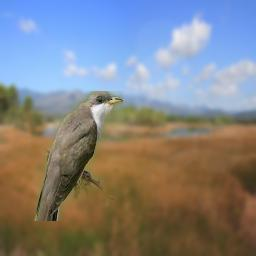Cuckoo: (34, 91, 123, 221)
